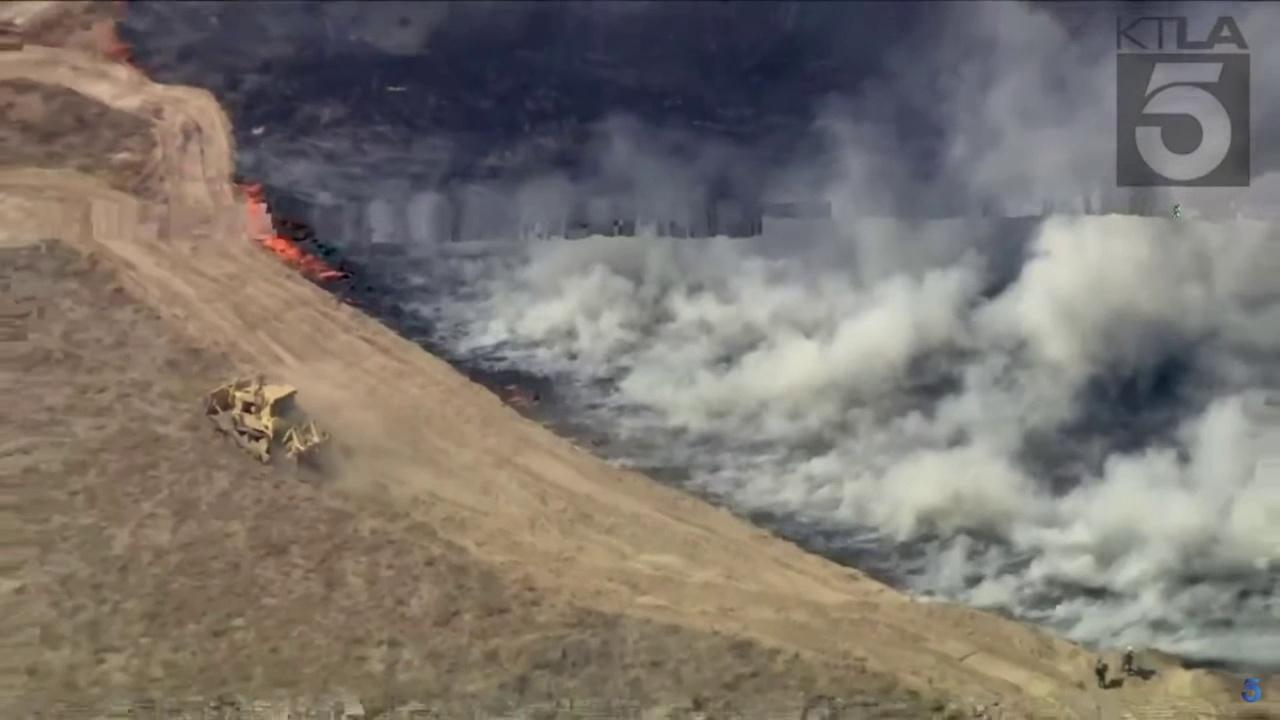fire: (258, 233, 348, 282), (241, 180, 265, 222), (101, 41, 136, 66)
smoke: (113, 0, 1280, 673)
